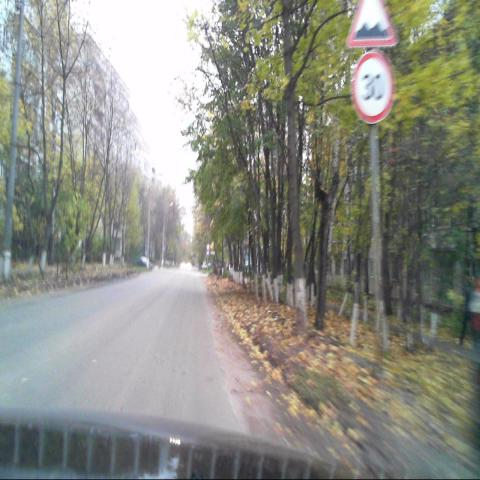3_24: (351, 52, 395, 126)
